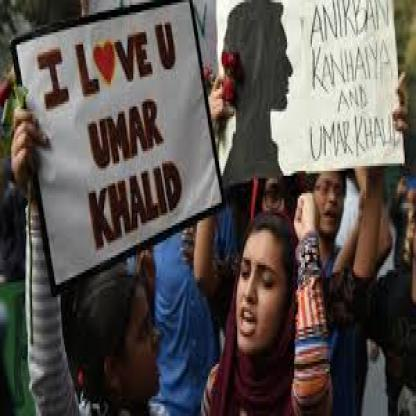BANNER: (10, 0, 226, 287)
